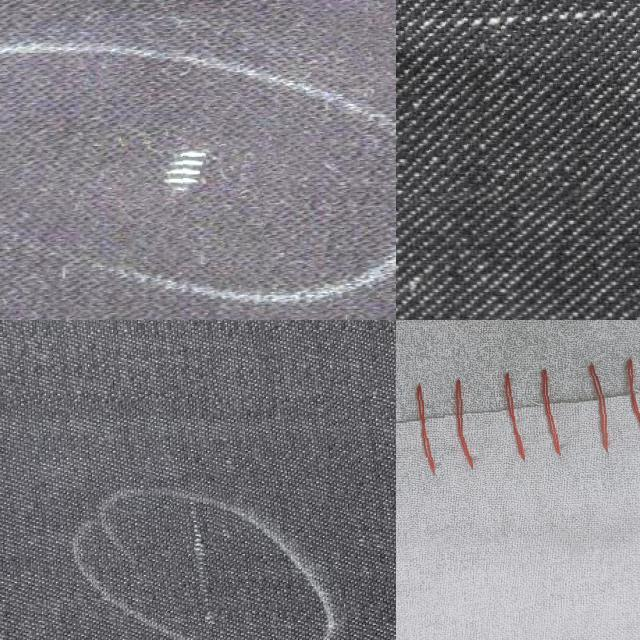Stitch: (396, 320, 640, 550)
Thread_other: (396, 0, 640, 208), (122, 112, 264, 256), (172, 495, 224, 629)
